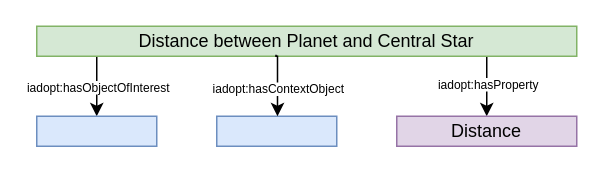
The diagram is 603 pixels wide and 173 high, and some of its shapes have lost their labels. The centre of each missing label's shape, as x and y in pixels:
"Planet" goes at [96,130].
"Star" goes at [276,130].
